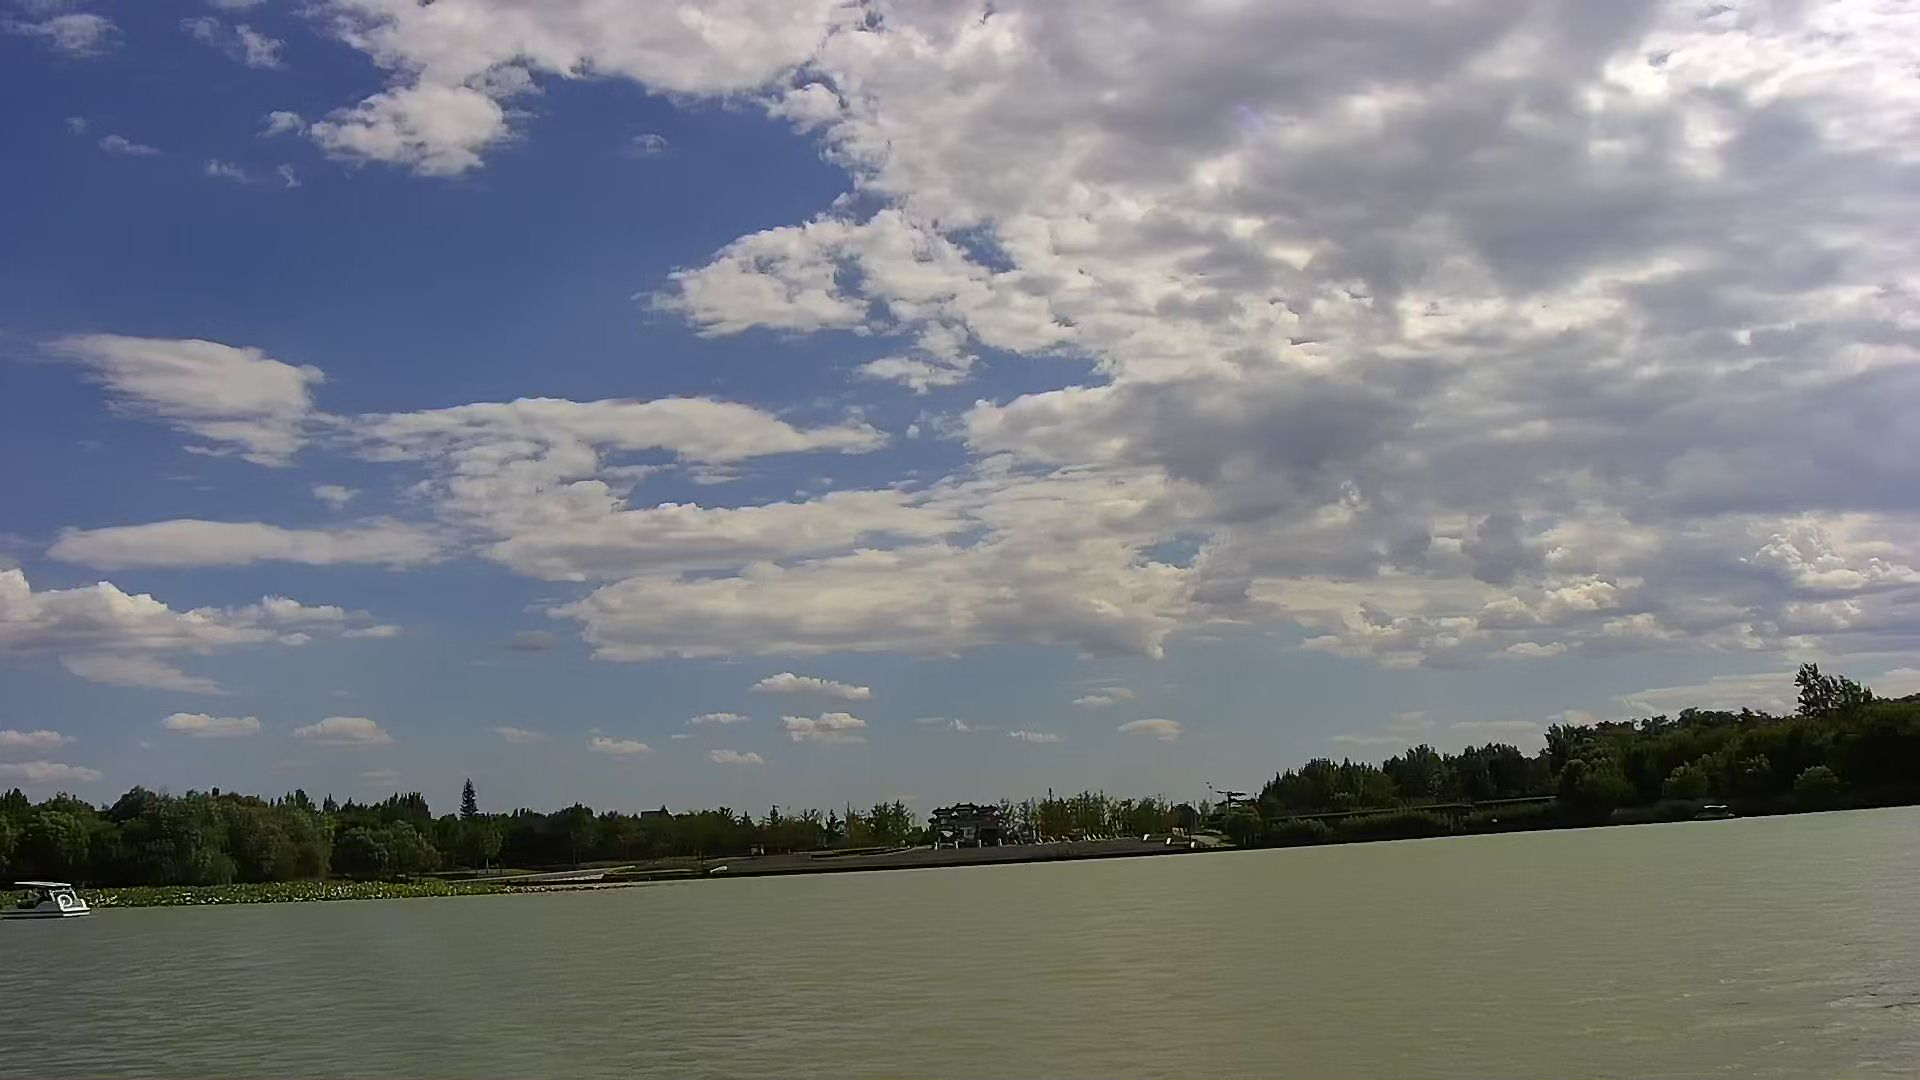boat: (7, 873, 91, 922)
